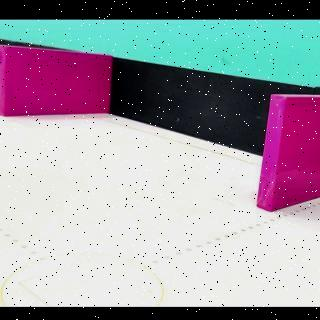xparking: (5, 57, 108, 116), (272, 100, 316, 213)
